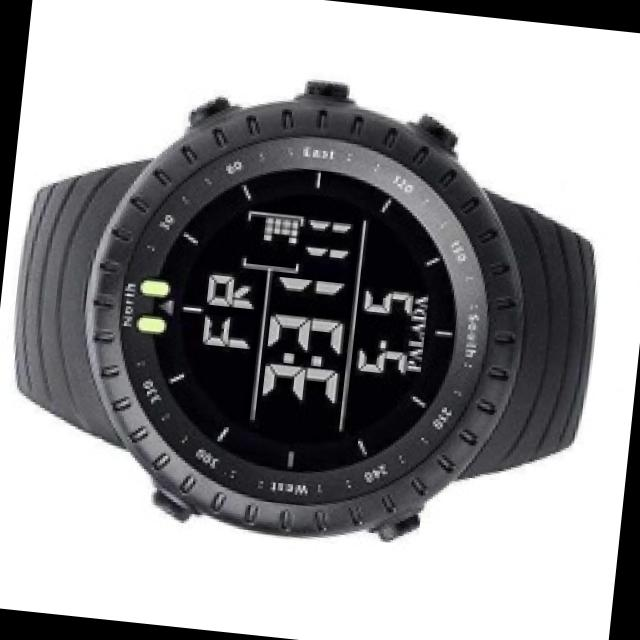saat: (0, 44, 634, 578)
